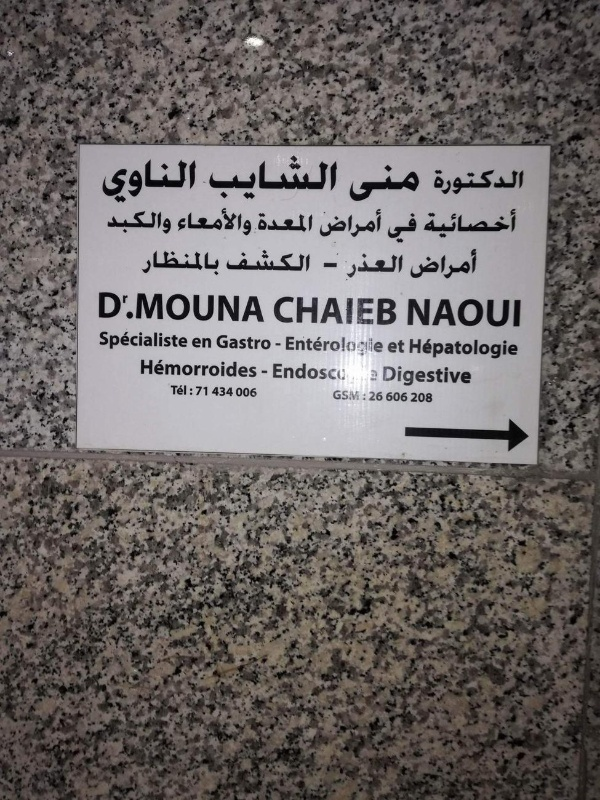text: (209, 154, 224, 200), (225, 154, 240, 200), (241, 154, 256, 200), (257, 154, 272, 200), (273, 154, 288, 200), (289, 154, 304, 200), (305, 154, 320, 200), (321, 154, 336, 200), (113, 159, 128, 204), (129, 159, 144, 204), (145, 159, 160, 204), (161, 159, 176, 204), (177, 159, 192, 204), (353, 164, 368, 202), (369, 164, 384, 202), (385, 164, 400, 202), (401, 164, 416, 202), (417, 247, 432, 280), (433, 247, 448, 280), (449, 247, 464, 280), (113, 292, 128, 324), (129, 292, 144, 324), (145, 292, 160, 324), (161, 292, 176, 324), (177, 292, 192, 324), (193, 292, 208, 324), (209, 292, 224, 324), (225, 292, 240, 324), (241, 292, 256, 324), (401, 213, 416, 244), (321, 208, 336, 239), (337, 208, 352, 239), (353, 208, 368, 239), (102, 159, 112, 204), (193, 207, 208, 237), (209, 207, 224, 237), (225, 207, 240, 237), (98, 292, 112, 324), (433, 209, 448, 238), (449, 209, 464, 238), (465, 209, 480, 238), (481, 209, 496, 238), (497, 209, 512, 238), (273, 296, 288, 325), (289, 296, 304, 325), (305, 296, 320, 325), (321, 296, 336, 325), (337, 296, 352, 325), (353, 296, 368, 325), (369, 296, 384, 325), (417, 298, 432, 327), (433, 298, 448, 327), (449, 298, 464, 327), (465, 298, 480, 327), (481, 298, 496, 327), (497, 298, 512, 327), (465, 247, 478, 280), (178, 207, 192, 237), (449, 169, 464, 197), (465, 169, 480, 197), (481, 169, 496, 197), (497, 169, 512, 197), (145, 250, 160, 277), (161, 250, 176, 277), (177, 250, 192, 277), (193, 250, 208, 277), (369, 208, 382, 239), (353, 253, 368, 279), (369, 253, 384, 279), (385, 253, 400, 279), (113, 210, 128, 235), (129, 210, 144, 235), (145, 210, 160, 235), (388, 213, 400, 244), (435, 169, 448, 197), (513, 169, 526, 197), (241, 249, 256, 273), (257, 249, 272, 273), (273, 249, 288, 273), (289, 249, 304, 273), (385, 296, 397, 325), (226, 249, 240, 273), (369, 335, 385, 356), (241, 207, 252, 237), (241, 359, 257, 379), (257, 213, 272, 234), (273, 213, 288, 234), (289, 213, 304, 234), (289, 335, 304, 356), (305, 335, 320, 356), (321, 335, 336, 356), (337, 335, 352, 356), (353, 335, 368, 356), (417, 338, 432, 359), (433, 338, 448, 359), (449, 338, 464, 359), (465, 338, 480, 359), (481, 338, 496, 359), (497, 338, 512, 359), (385, 366, 400, 387), (401, 366, 416, 387), (417, 366, 432, 387), (433, 366, 448, 387), (449, 366, 464, 387), (145, 359, 160, 379), (161, 359, 176, 379), (177, 359, 192, 379), (193, 359, 208, 379), (209, 359, 224, 379), (225, 359, 240, 379), (273, 362, 288, 382), (289, 362, 304, 382), (305, 362, 320, 382), (321, 362, 336, 382), (337, 362, 352, 382), (353, 362, 368, 382), (209, 250, 220, 277), (113, 330, 128, 349), (129, 330, 144, 349), (145, 330, 160, 349), (161, 330, 176, 349), (161, 210, 172, 235), (407, 298, 416, 327), (513, 298, 522, 327), (257, 292, 265, 324), (99, 330, 112, 349), (257, 335, 273, 350), (424, 209, 432, 238), (225, 335, 240, 350), (241, 335, 256, 350), (177, 330, 188, 349), (369, 362, 379, 382), (410, 247, 416, 280), (305, 213, 314, 234), (193, 159, 197, 204), (193, 337, 208, 349), (417, 392, 433, 403), (388, 340, 400, 354), (465, 366, 473, 387), (241, 387, 256, 398), (337, 390, 352, 401), (369, 391, 384, 402), (346, 253, 352, 279), (386, 391, 400, 402), (348, 164, 352, 202), (417, 164, 421, 202), (106, 210, 112, 235), (305, 249, 311, 273), (410, 338, 416, 359), (513, 338, 519, 359), (177, 385, 188, 396), (196, 386, 208, 396), (212, 387, 224, 397), (513, 209, 517, 238), (217, 335, 224, 350), (337, 154, 339, 200), (225, 387, 234, 397), (353, 390, 361, 401), (284, 335, 288, 356), (324, 262, 336, 269), (141, 250, 144, 277), (140, 359, 144, 379), (401, 391, 408, 402), (170, 385, 176, 396), (275, 342, 288, 347), (381, 366, 384, 387), (401, 340, 405, 354), (411, 392, 416, 403), (401, 253, 403, 279), (236, 387, 240, 398), (261, 370, 272, 374), (363, 393, 368, 401), (209, 337, 212, 349), (333, 390, 336, 401), (417, 213, 418, 244), (189, 388, 192, 396), (257, 387, 258, 398), (193, 388, 194, 396), (337, 262, 338, 269)
